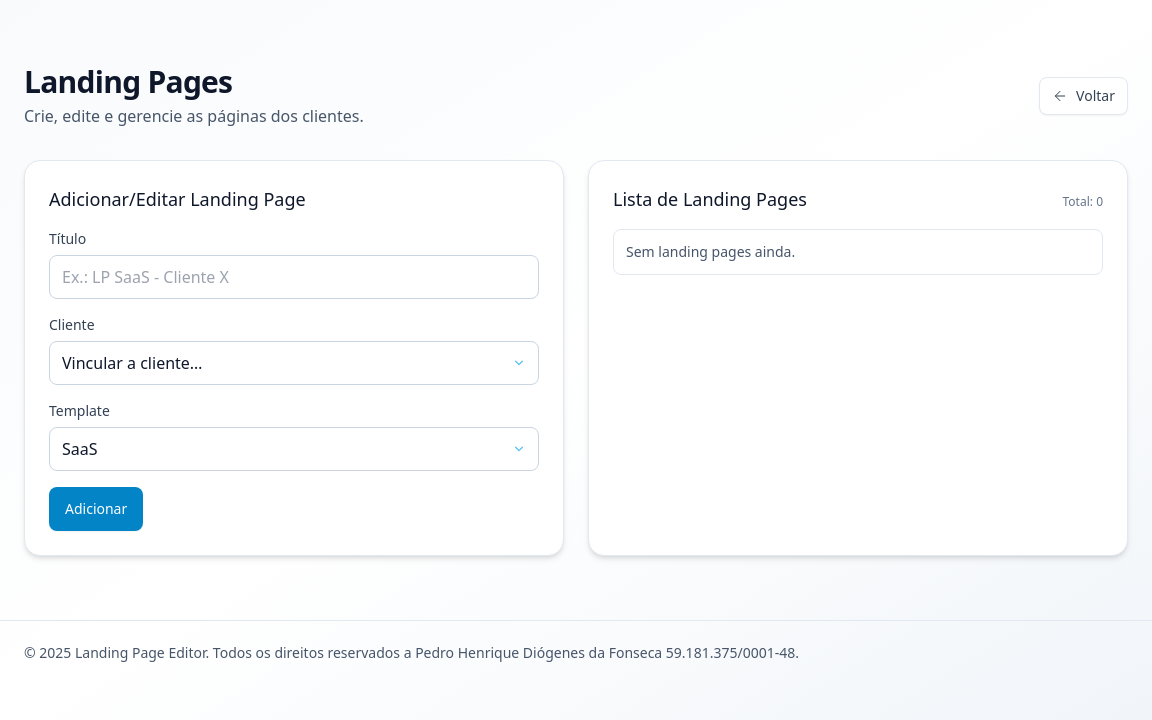
Test: LandingPagesPage (integration) › cria nova landing page e reseta o formulário
Type "LP Nova" into the field labelled "Título" at (294,277), box x1=49 y1=255 x2=539 y2=299
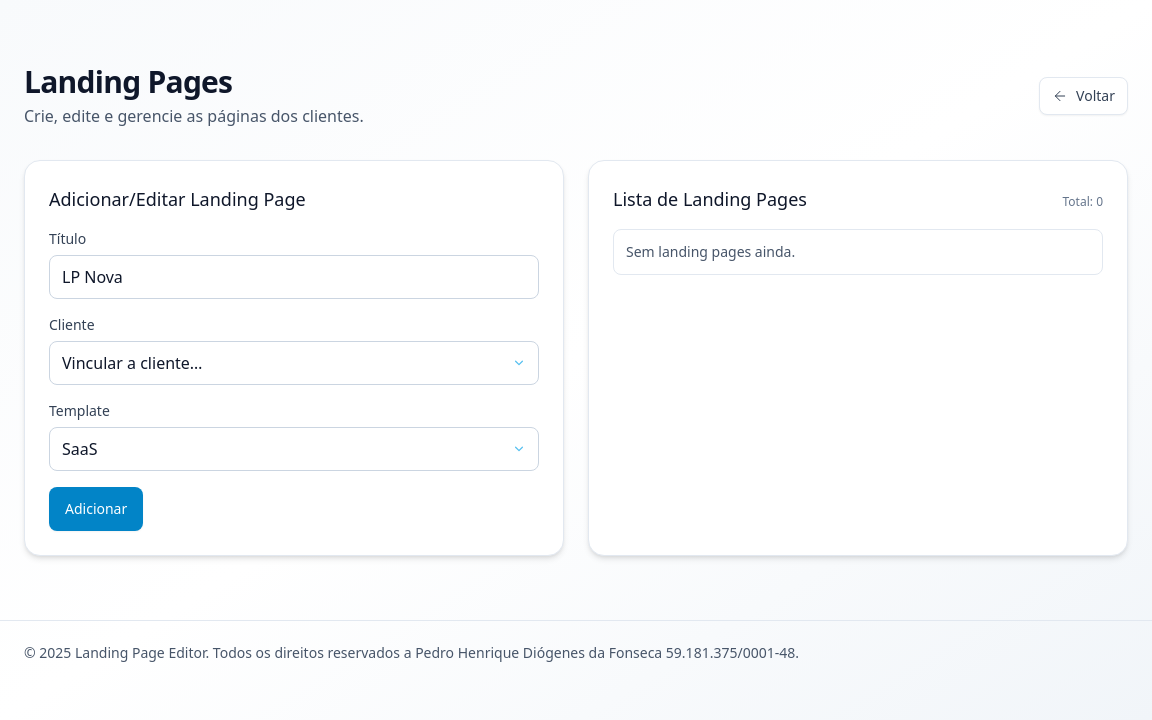
Select "Cliente XPTO" in the dropdown labelled "Cliente" at (294,363), box x1=49 y1=341 x2=539 y2=385
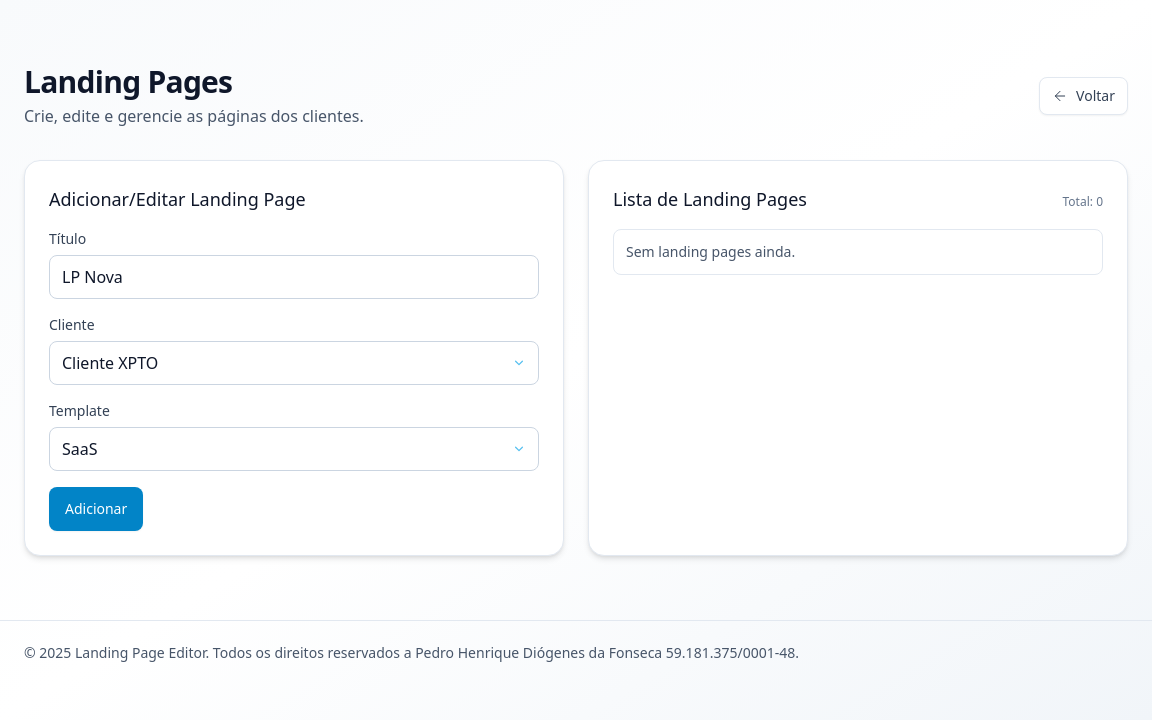
Select "Evento/Curso" in the dropdown labelled "Template" at (294,449), box x1=49 y1=427 x2=539 y2=471
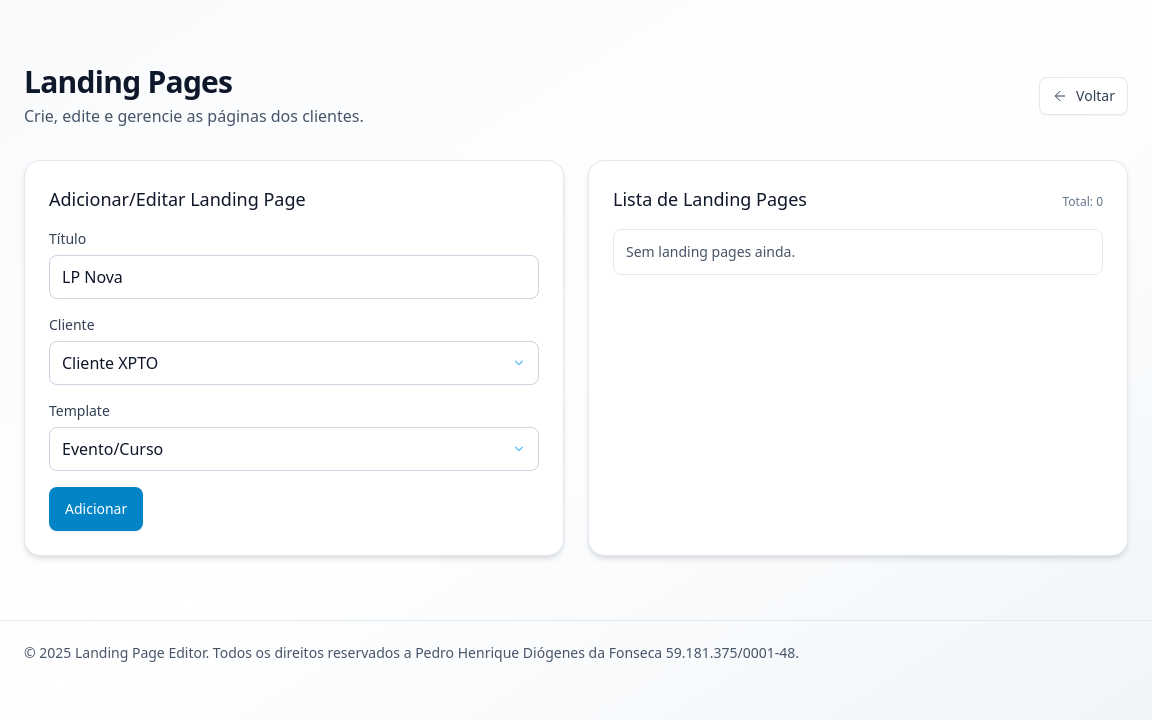
Click the button "Adicionar" at (96,509), box x1=49 y1=487 x2=143 y2=531
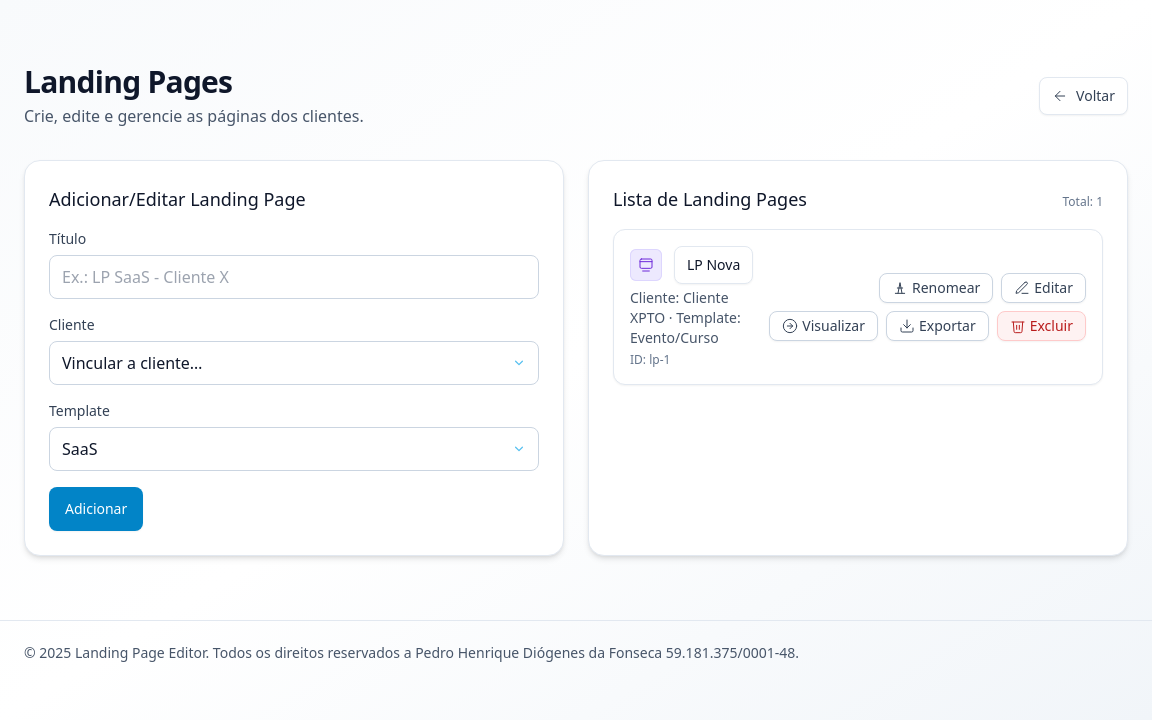
Expected: the text "Total: 1" is shown, x1=1062 y1=194 x2=1103 y2=210
Expected: the text "LP Nova" is shown, x1=687 y1=255 x2=740 y2=275
Expected: the field labelled "Título" is empty, x1=49 y1=255 x2=539 y2=299
